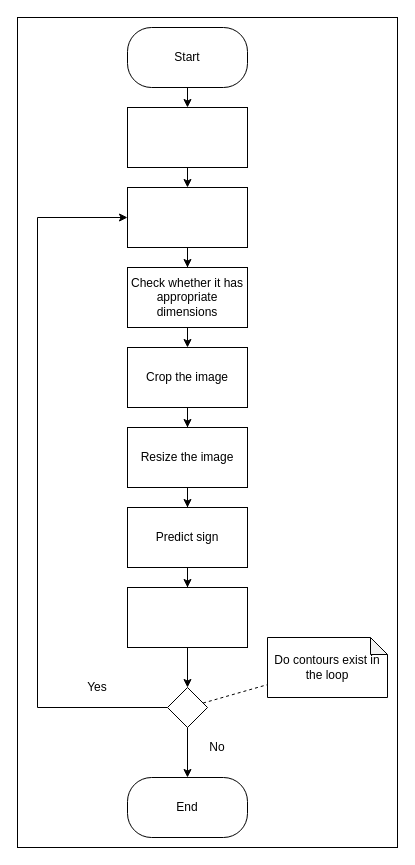
The diagram is 415 pixels wide and 865 high, and some of its shapes have lost their labels. Each missing label, with the centre of its shape:
"Loop through each contours" belongs at (187,217).
"Receive image from top view topic" belongs at (187,137).
"Store the results" belongs at (187,617).
